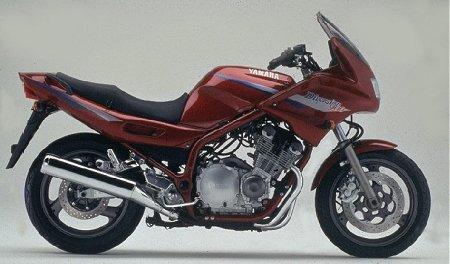motorcycle: (2, 9, 435, 262)
